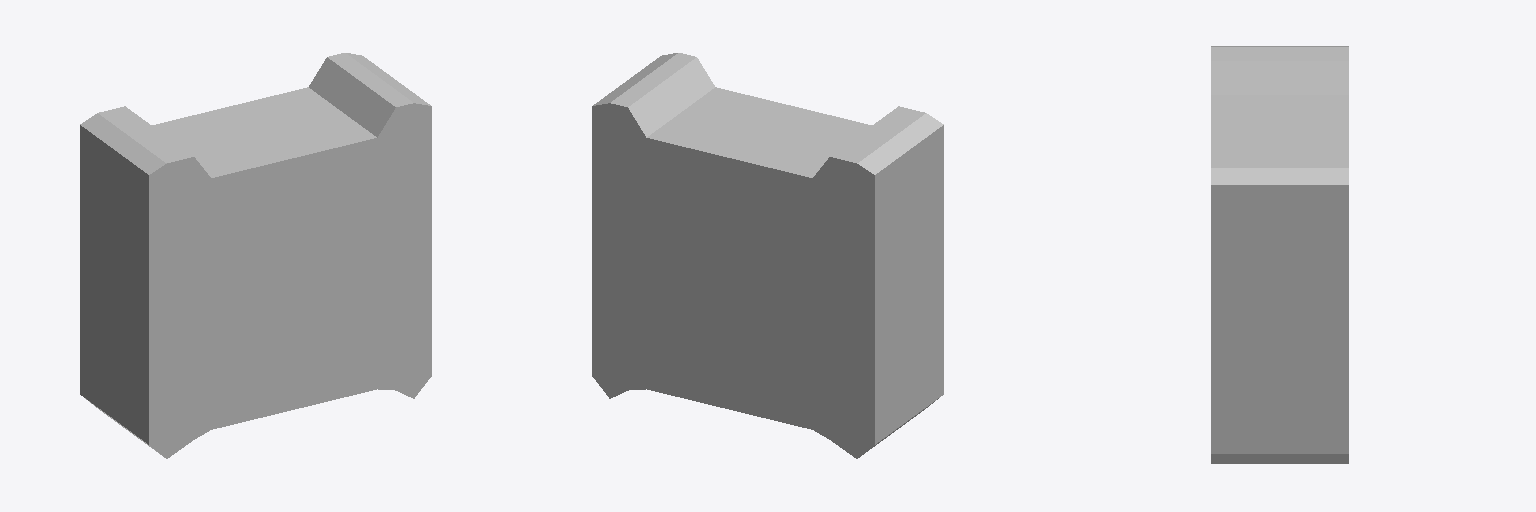
Rendered from Chip_Holder.obj.
3 views of the same model, side by side, from view 1: azimuth 30°, elevation 25°; view 2: azimuth 150°, elevation 25°; view 3: azimuth 270°, elevation 25° (orthographic).
Visible parts, largest first — view 1: Chip_Holder; view 2: Chip_Holder; view 3: Chip_Holder.
Boxes of the visible parts, x1,y1,x2,y2 form: Chip_Holder: [80, 53, 431, 458]; Chip_Holder: [592, 53, 943, 458]; Chip_Holder: [1211, 46, 1348, 463].
Bounding box in the file's own units: 9.86 × 9.86 × 4.17.